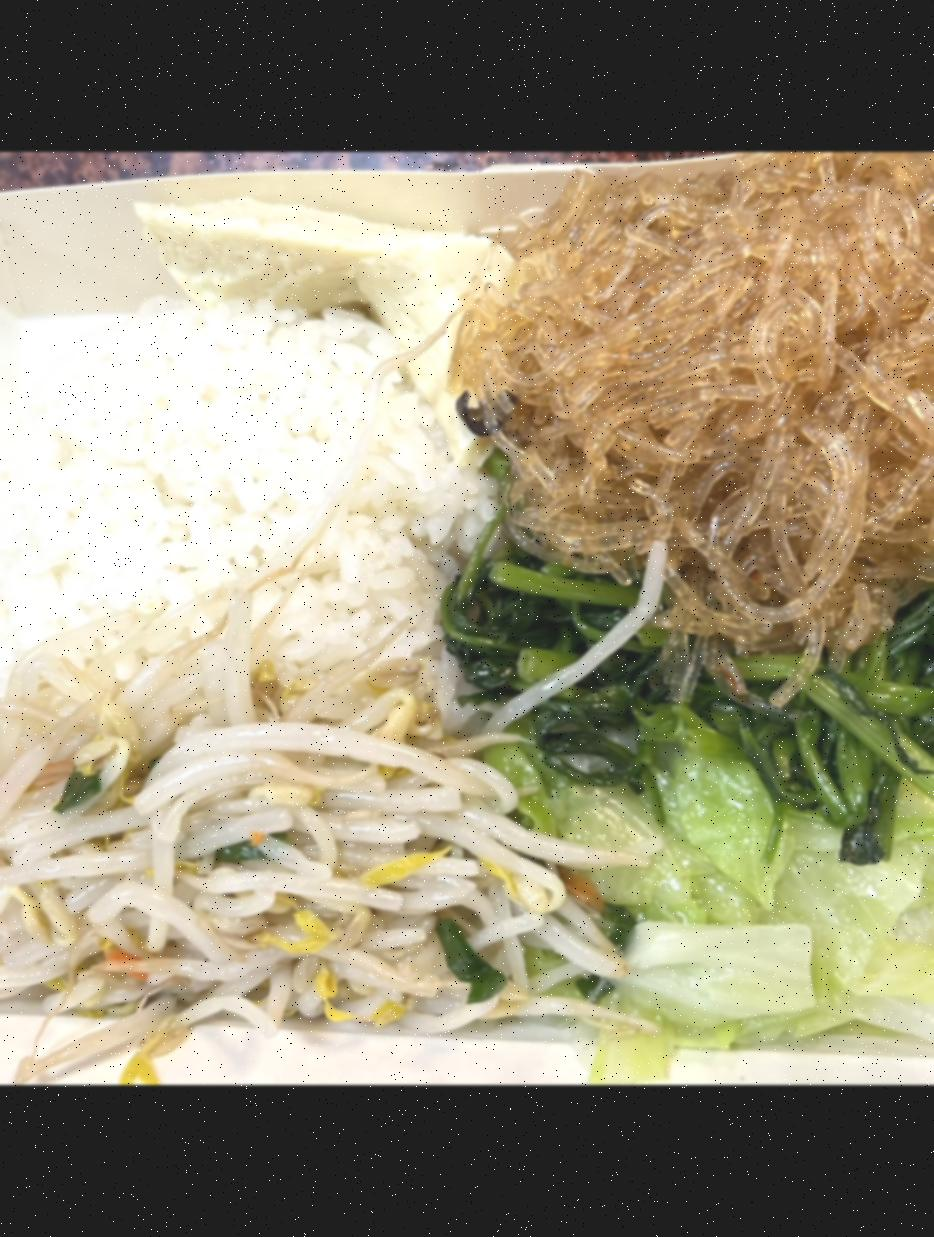big grilled chicken leg: (0, 159, 934, 1080)
big herbal chicken leg: (0, 299, 482, 794)
braised fish fillet: (0, 642, 608, 1034), (456, 156, 934, 645), (514, 754, 934, 1081), (454, 559, 934, 794), (119, 184, 506, 464)
